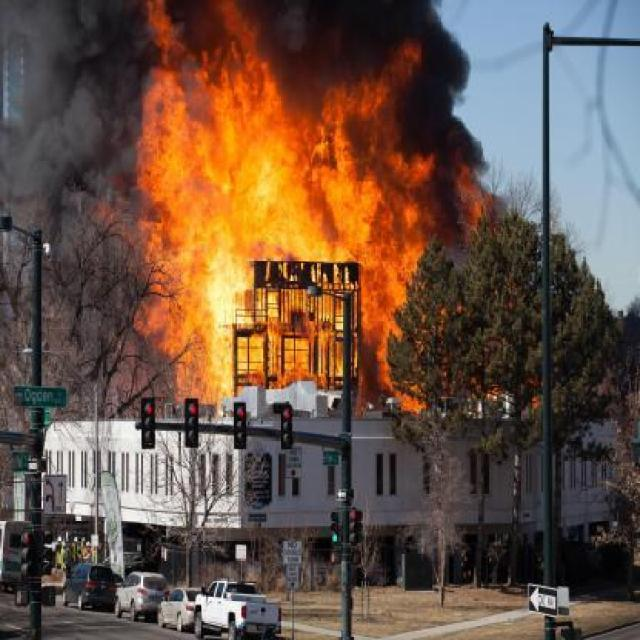Fire: (121, 2, 447, 457)
Smoke: (6, 7, 146, 255)
